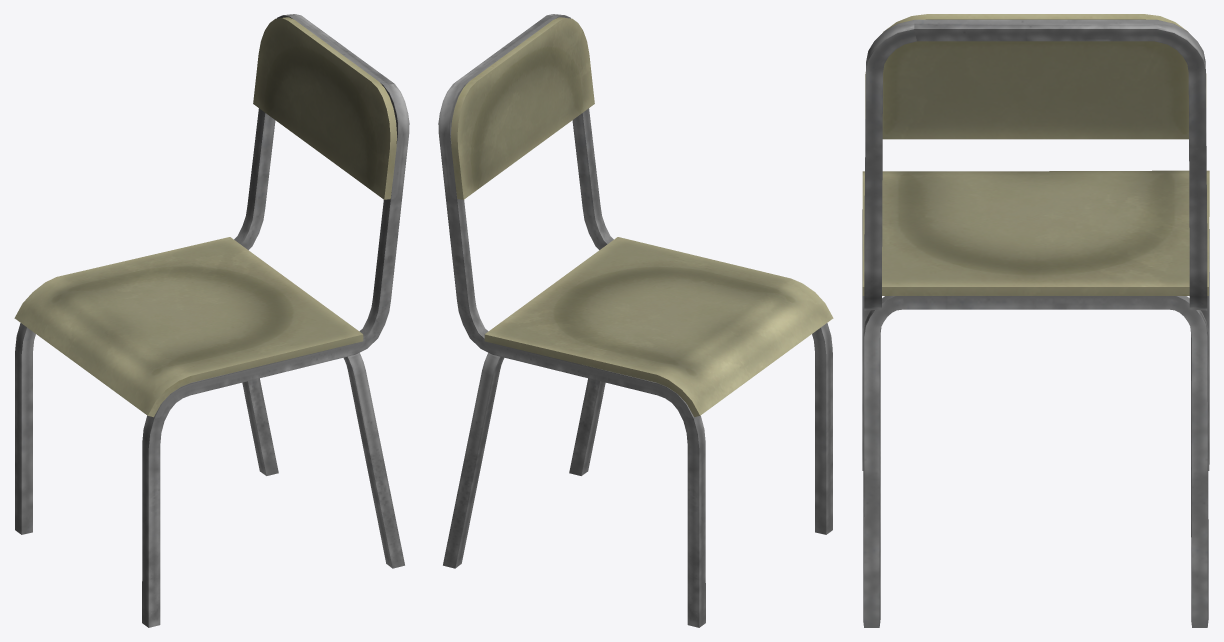
Rendered from MB_Cafe_Chair_04.fbx.
The picture shows the model from 3 angles, left to right: view 1: azimuth 30°, elevation 25°; view 2: azimuth 150°, elevation 25°; view 3: azimuth 270°, elevation 25°; orthographic projection. The views are drawn at different scales.
Parts seen in each view (by area): view 1: MB_Cafe_Chair_04_LOD0; view 2: MB_Cafe_Chair_04_LOD0; view 3: MB_Cafe_Chair_04_LOD0.
Part boxes in pixels (x1=…): MB_Cafe_Chair_04_LOD0: x1=14, y1=14, x2=409, y2=627; MB_Cafe_Chair_04_LOD0: x1=438, y1=14, x2=833, y2=627; MB_Cafe_Chair_04_LOD0: x1=862, y1=14, x2=1209, y2=627.
Size of what is drawn, in the model's own units: 60.61 by 102 by 52.6.
